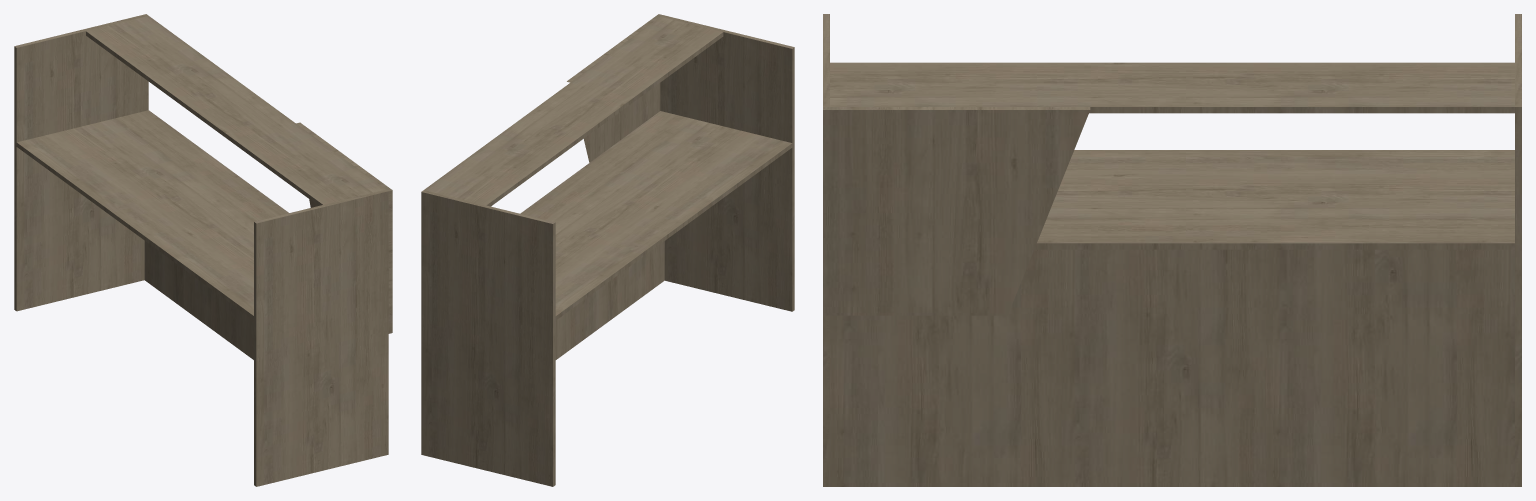
Rendered from res6.glb.
3 views of the same model, side by side, from view 1: azimuth 30°, elevation 25°; view 2: azimuth 150°, elevation 25°; view 3: azimuth 270°, elevation 25° (orthographic). The views are drawn at different scales.
Parts seen in each view (by area): view 1: Box042, Box043, Box044, Box045, Box041, Box046; view 2: Box043, Box042, Box044, Box045, Box041, Box046; view 3: Box041, Box046, Box044, Box045, Box043, Box042.
Part boxes in pixels (box(x1,y1,x2,y2)): Box042: box(254, 189, 388, 486); Box043: box(14, 14, 148, 311); Box044: box(16, 110, 288, 320); Box045: box(86, 16, 385, 205); Box041: box(144, 241, 253, 359); Box046: box(296, 122, 392, 333); Box043: box(421, 190, 555, 486); Box042: box(660, 15, 794, 311); Box044: box(520, 111, 792, 320); Box045: box(424, 17, 723, 206); Box041: box(555, 241, 664, 359); Box046: box(567, 14, 662, 162); Box041: box(826, 249, 1514, 486); Box046: box(823, 107, 1090, 315); Box044: box(1034, 150, 1514, 249); Box045: box(830, 62, 1514, 113); Box043: box(1515, 14, 1521, 486); Box042: box(823, 14, 829, 486).
Size of the model in its own units: 0.65 by 1.2 by 2.
1 material, 1 textured.
